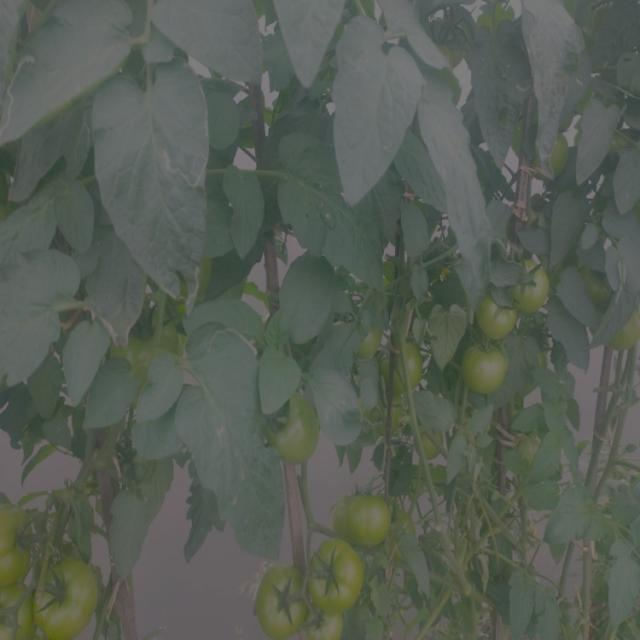tomato: (37, 554, 102, 640), (262, 389, 327, 470), (299, 540, 372, 611), (113, 304, 186, 370), (457, 333, 516, 397), (251, 567, 304, 636), (342, 486, 399, 549), (511, 254, 553, 311), (1, 502, 32, 578), (1, 584, 44, 638), (512, 429, 552, 471), (480, 290, 518, 334), (540, 130, 576, 176), (581, 257, 622, 296), (608, 301, 640, 350), (391, 341, 420, 394), (351, 314, 381, 359), (308, 615, 344, 640)
